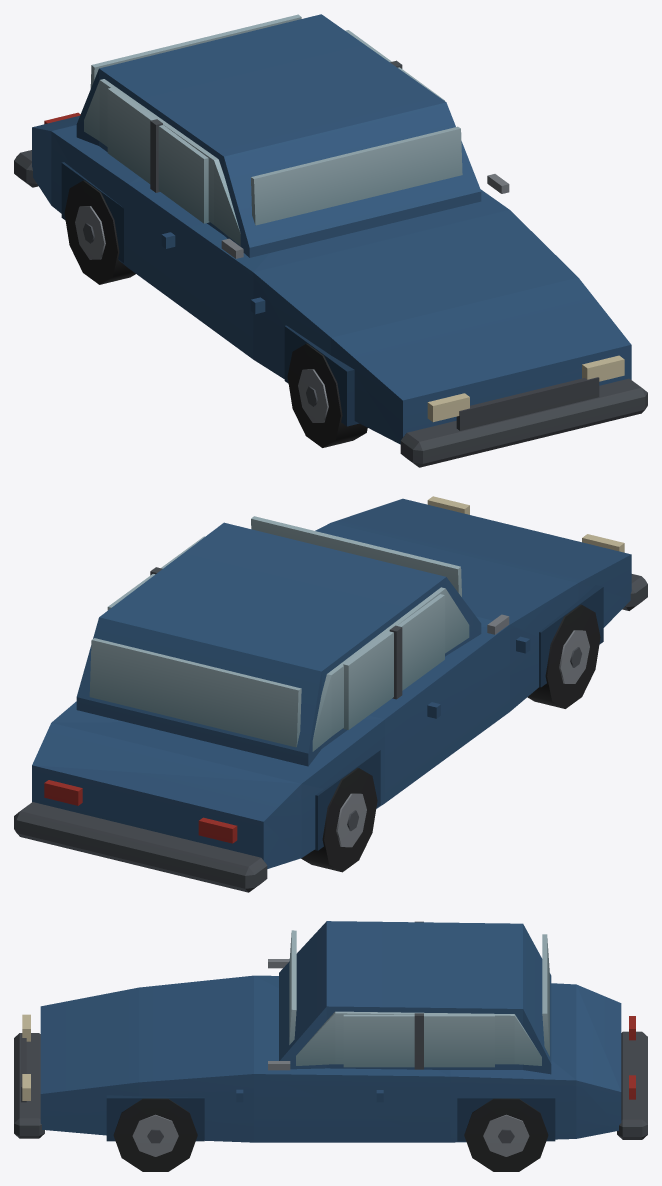
Rendered from car-sedan-01.glb.
3 renders of one model, top to bottom at view 1: azimuth 30°, elevation 25°; view 2: azimuth 150°, elevation 25°; view 3: azimuth 270°, elevation 25°, orthographic. The views are drawn at different scales.
Visible parts, largest first — view 1: car_sedan_01; view 2: car_sedan_01; view 3: car_sedan_01.
Part boxes in pixels (bbox=[...]): car_sedan_01: bbox=[14, 14, 647, 467]; car_sedan_01: bbox=[14, 496, 647, 892]; car_sedan_01: bbox=[14, 921, 647, 1171].
Size of the model in its own units: 1.16 by 0.8095 by 2.94.
